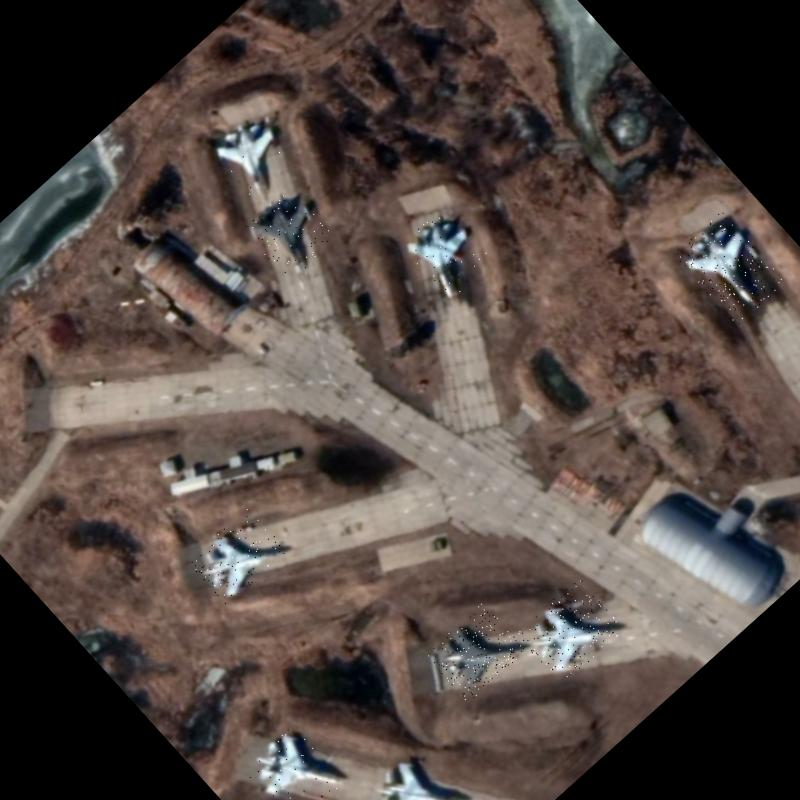A1: (673, 210, 786, 325), (514, 576, 626, 686), (424, 600, 527, 702), (187, 506, 288, 605), (241, 185, 338, 283), (398, 204, 494, 301), (238, 718, 347, 800), (207, 107, 298, 199), (357, 741, 469, 800)
